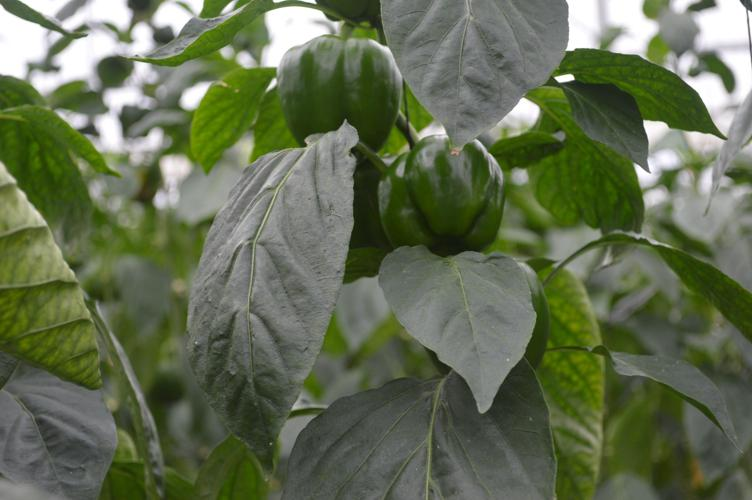BellPepper: (371, 130, 512, 263), (265, 30, 396, 155)
